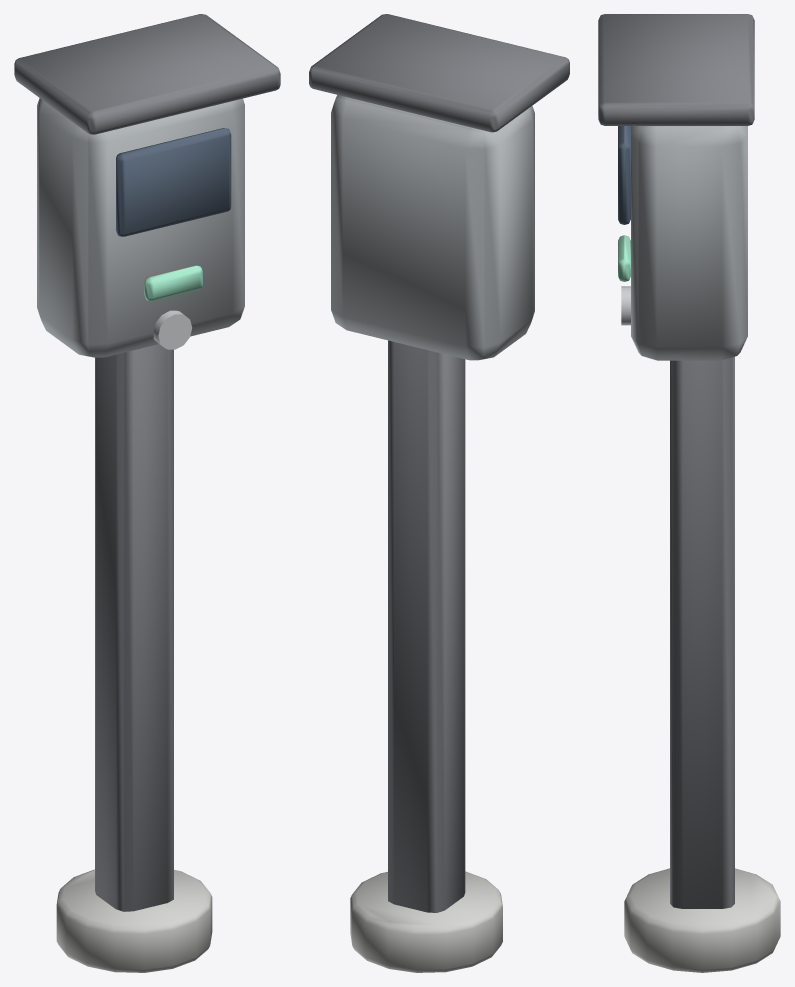
File: intercom.glb
The picture shows the model from 3 angles, left to right: view 1: azimuth 30°, elevation 25°; view 2: azimuth 150°, elevation 25°; view 3: azimuth 270°, elevation 25°; orthographic projection.
Parts seen in each view (by area): view 1: Body; view 2: Body; view 3: Body.
Part boxes in pixels (x1,y1,x2,y2): Body: [14, 14, 280, 972]; Body: [309, 14, 569, 972]; Body: [598, 14, 780, 972].
Size of the model in its own units: 0.34 by 1.5 by 0.28.
